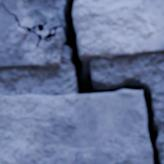brick: (0, 91, 151, 163), (74, 0, 163, 57), (0, 4, 63, 68), (3, 0, 60, 34)
crack: (0, 0, 162, 163)
